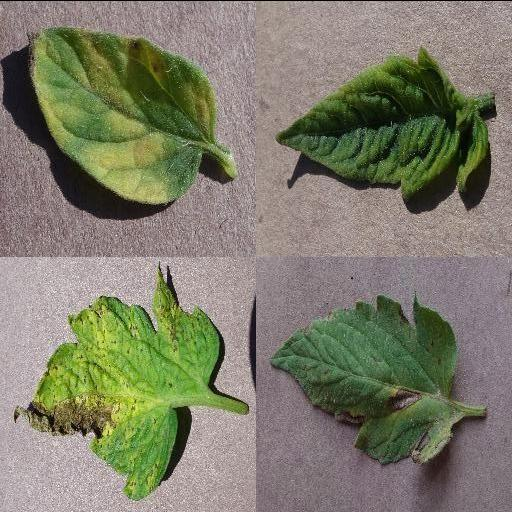Early Blight: (271, 295, 459, 465)
Leaf Mold: (30, 26, 216, 202)
Septoria: (12, 261, 222, 498)
Yellow Leaf Curl Virus: (273, 44, 489, 196)
